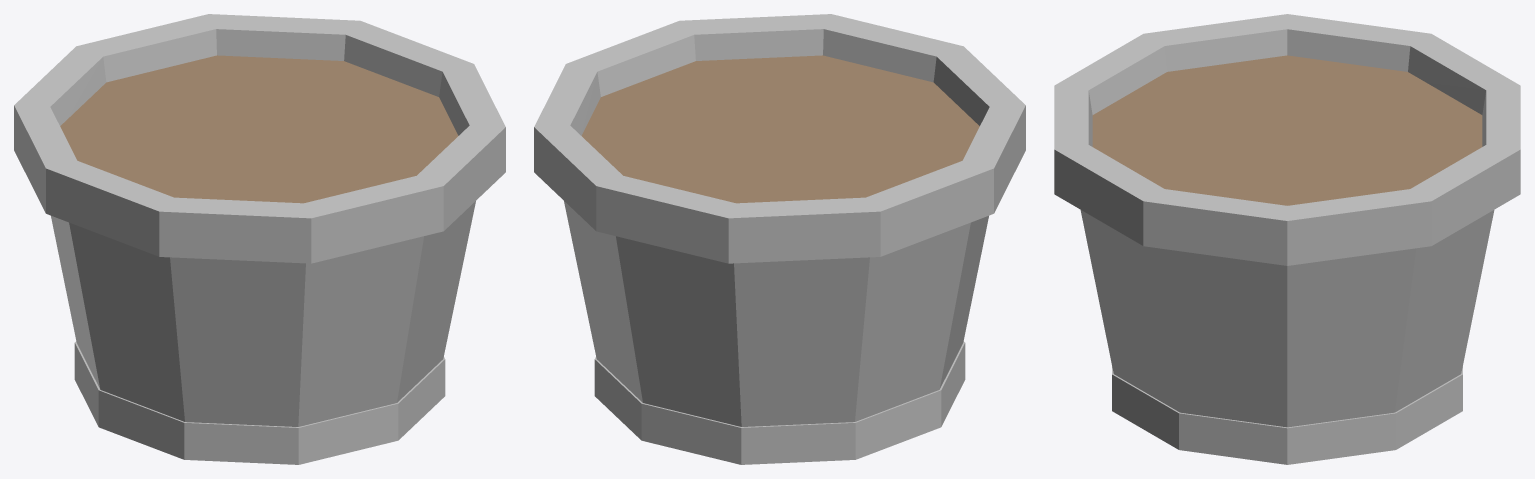
File: plant_pot_b8.obj
The picture shows the model from 3 angles, left to right: view 1: azimuth 30°, elevation 25°; view 2: azimuth 150°, elevation 25°; view 3: azimuth 270°, elevation 25°; orthographic projection.
Visible parts, largest first — view 1: plant_pot_b8_0, plant_pot_b8_2, plant_pot_b8_1; view 2: plant_pot_b8_0, plant_pot_b8_2, plant_pot_b8_1; view 3: plant_pot_b8_0, plant_pot_b8_2, plant_pot_b8_1.
Part boxes in pixels (x1,y1,x2,y2): plant_pot_b8_0: [14, 14, 505, 426]; plant_pot_b8_2: [60, 55, 458, 203]; plant_pot_b8_1: [74, 341, 445, 464]; plant_pot_b8_0: [534, 14, 1025, 426]; plant_pot_b8_2: [581, 55, 979, 203]; plant_pot_b8_1: [594, 341, 965, 464]; plant_pot_b8_0: [1054, 14, 1520, 427]; plant_pot_b8_2: [1092, 55, 1482, 205]; plant_pot_b8_1: [1112, 366, 1462, 464].
Bounding box in the file's own units: 0.544 × 0.33 × 0.5174.
